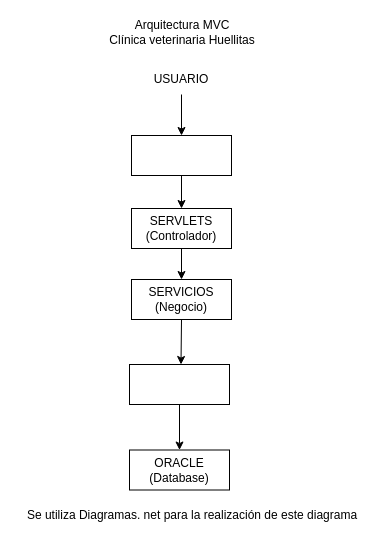
The diagram is 384 pixels wide and 547 high, and some of its shapes have lost their labels. The centre of each missing label's shape, as x and y in pixels:
"DAO (Acceso Datos)" goes at point (179, 384).
"VPS (Vista)" goes at point (181, 155).
